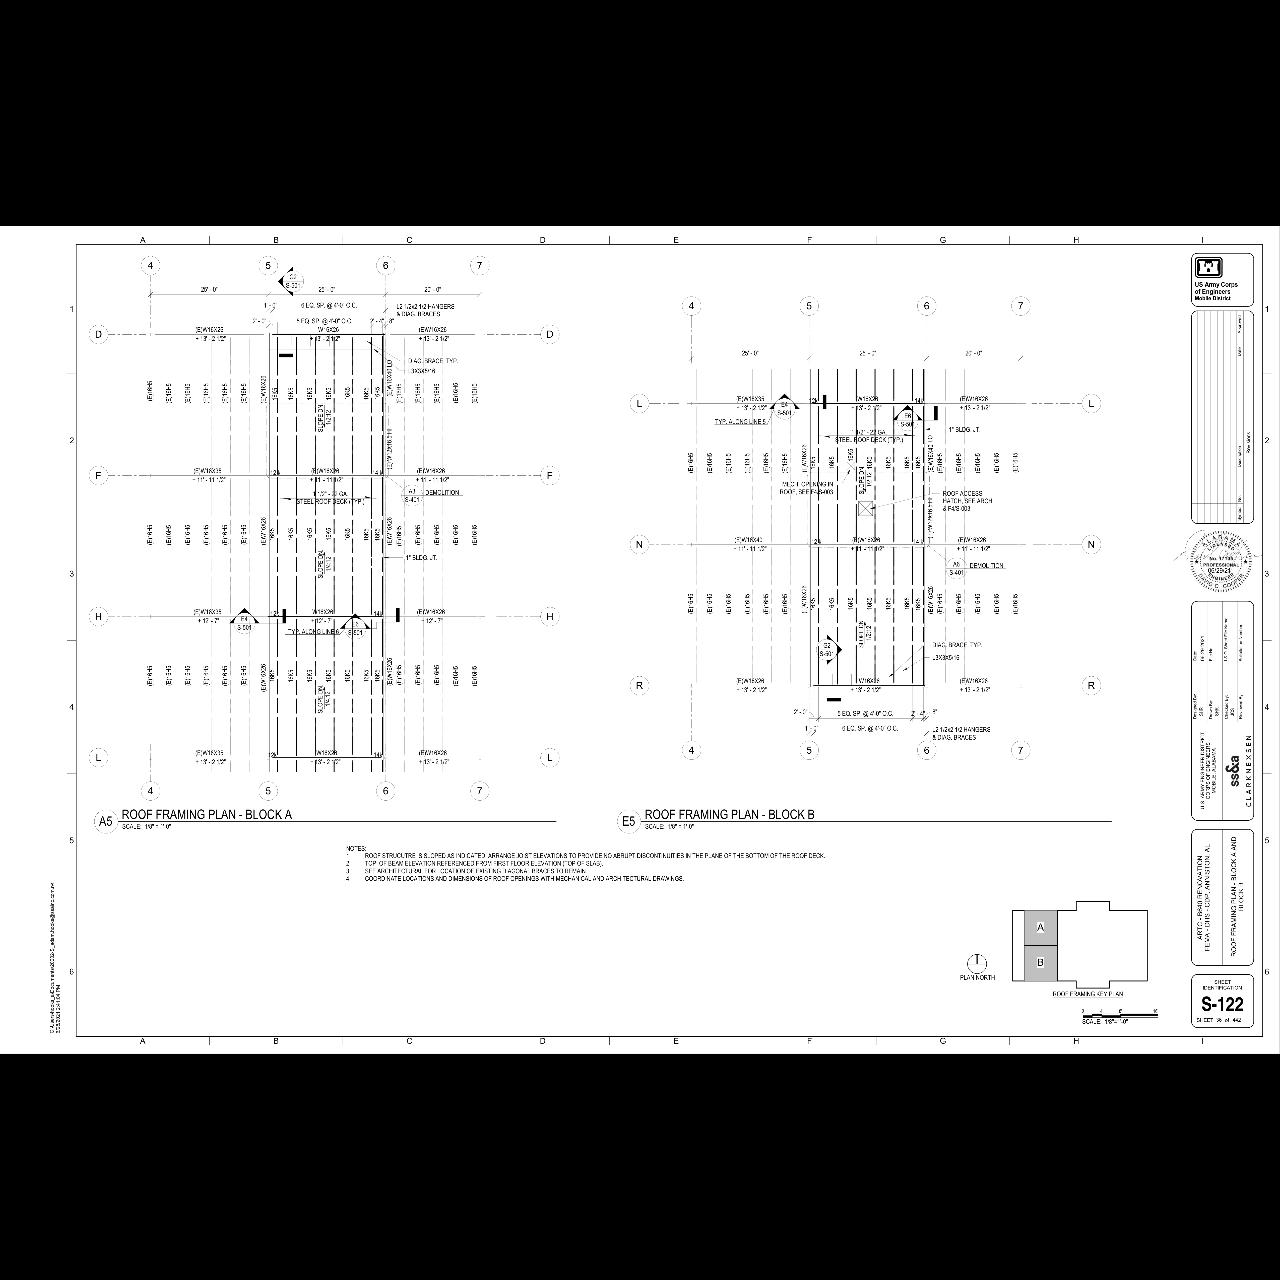detail: (400, 482, 424, 510), (945, 556, 969, 580)
elevation: (275, 266, 309, 298), (812, 634, 844, 666), (768, 391, 802, 421), (228, 606, 260, 636), (891, 403, 924, 432), (339, 612, 373, 640)
title: (614, 804, 1116, 840), (90, 802, 560, 838)
